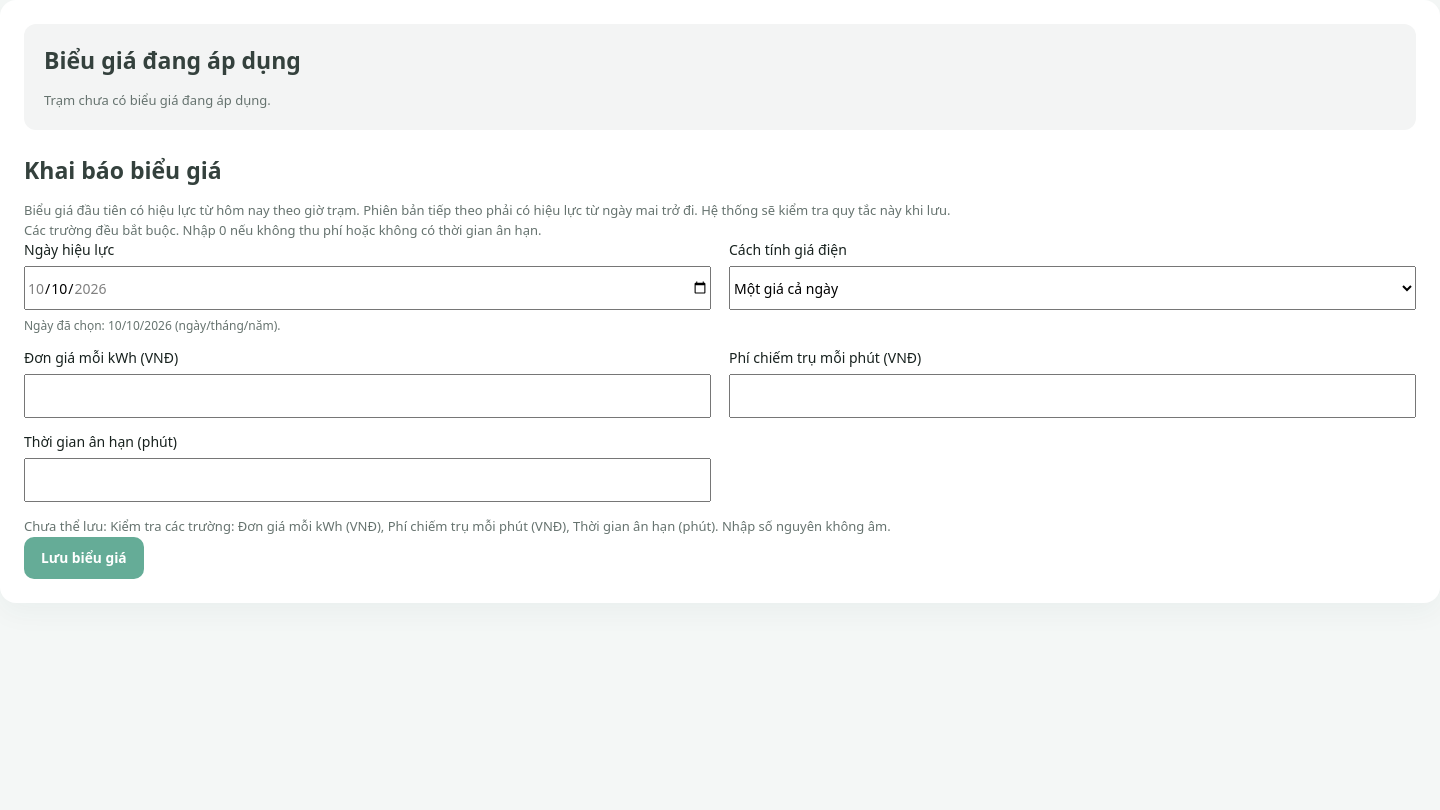
loads empty context, saves first tariff and refreshes current rates on the station section
Expected: the text "Trạm chưa có biểu giá đang áp dụng." is shown, [44,91,271,109]
Expected: the date field labelled "Ngày hiệu lực" holds "2026-10-10", [24,266,711,310]
Type "3500" into the field labelled "Đơn giá mỗi kWh (VNĐ)".
click(368, 396); type("3500")  # box [24,374,711,418]
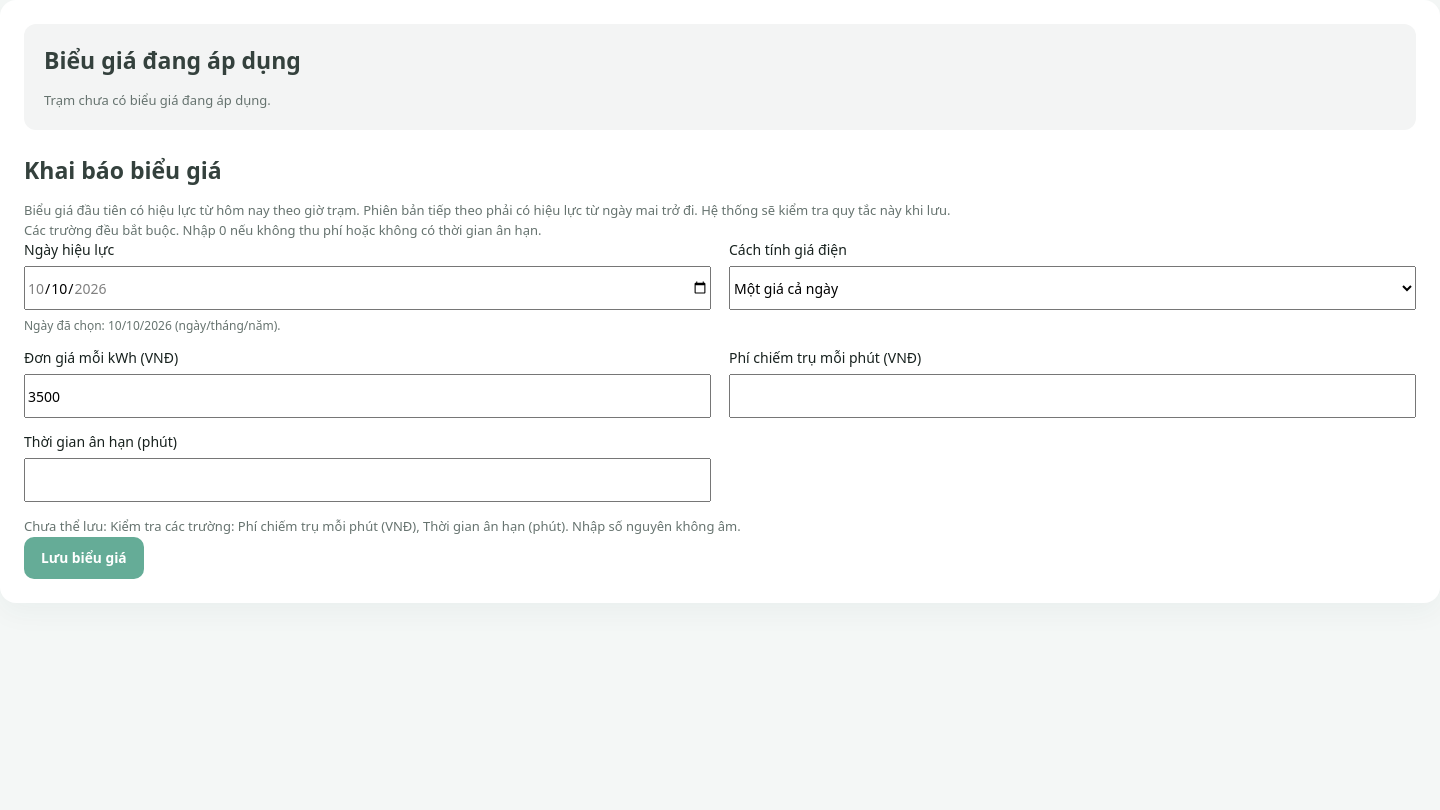
Type "500" into the field labelled "Phí chiếm trụ mỗi phút (VNĐ)".
click(1072, 396); type("500")  # box [729,374,1416,418]
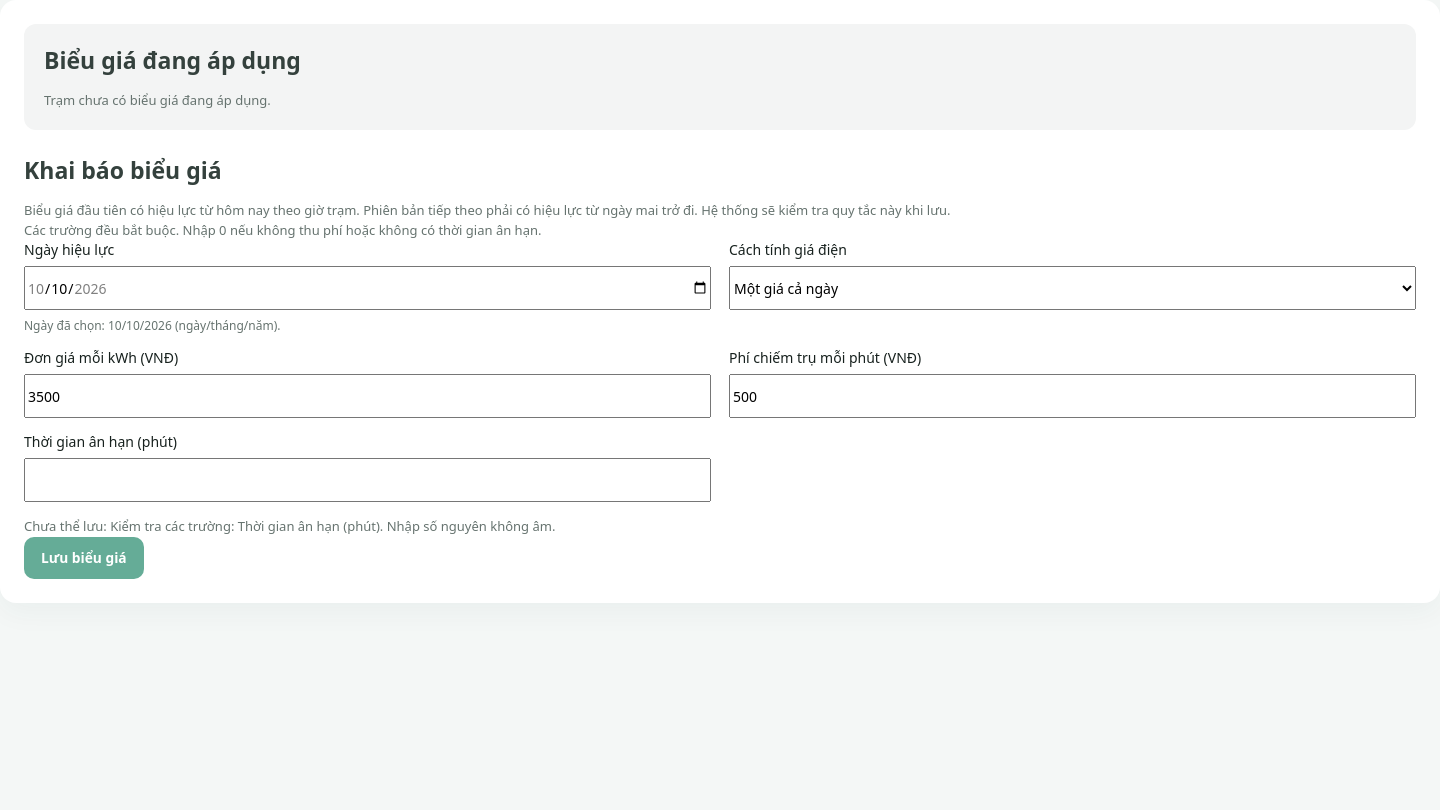
Type "5" into the field labelled "Thời gian ân hạn (phút)".
click(368, 480); type("5")  # box [24,458,711,502]
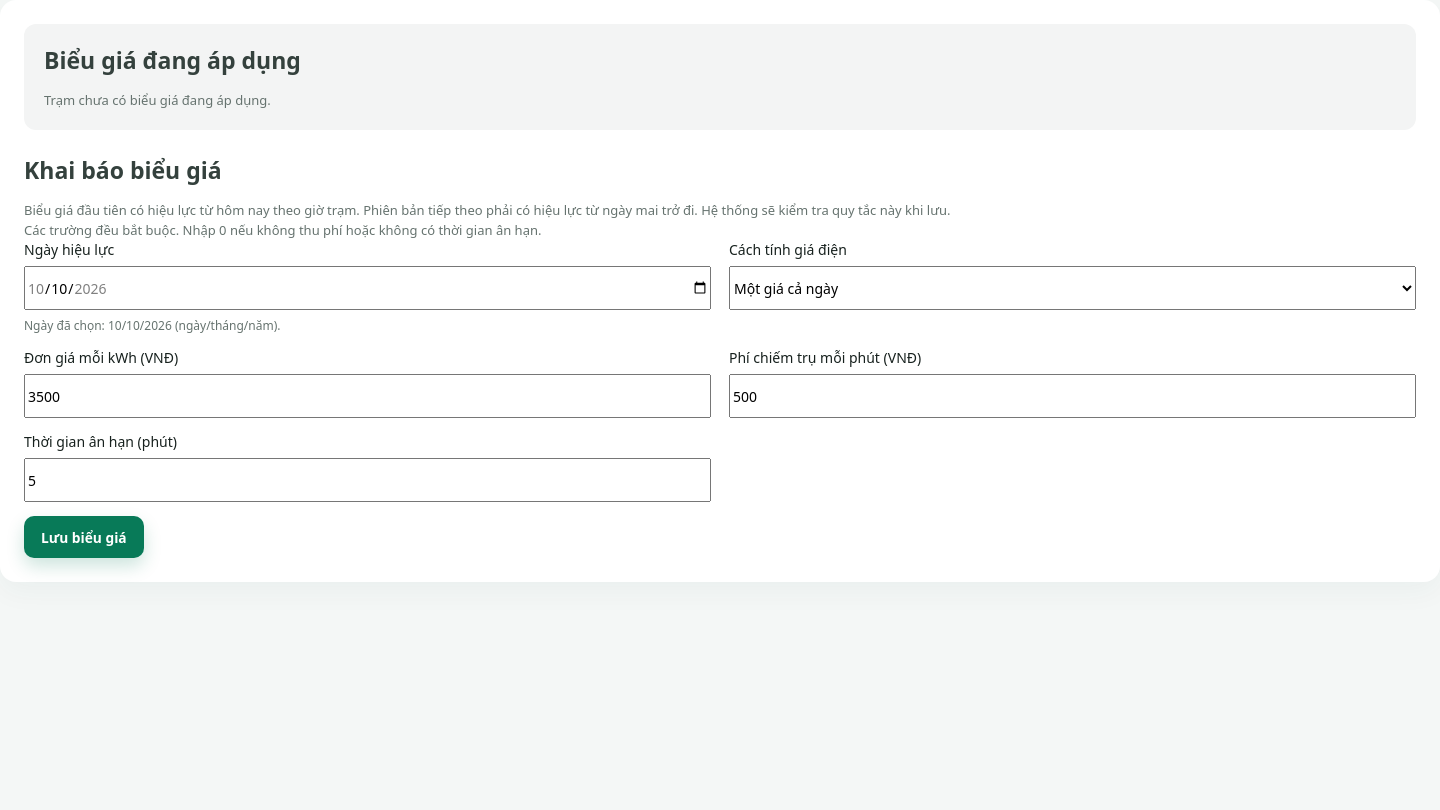
Click the button "Lưu biểu giá".
click(84, 537)  # box [24,516,144,558]
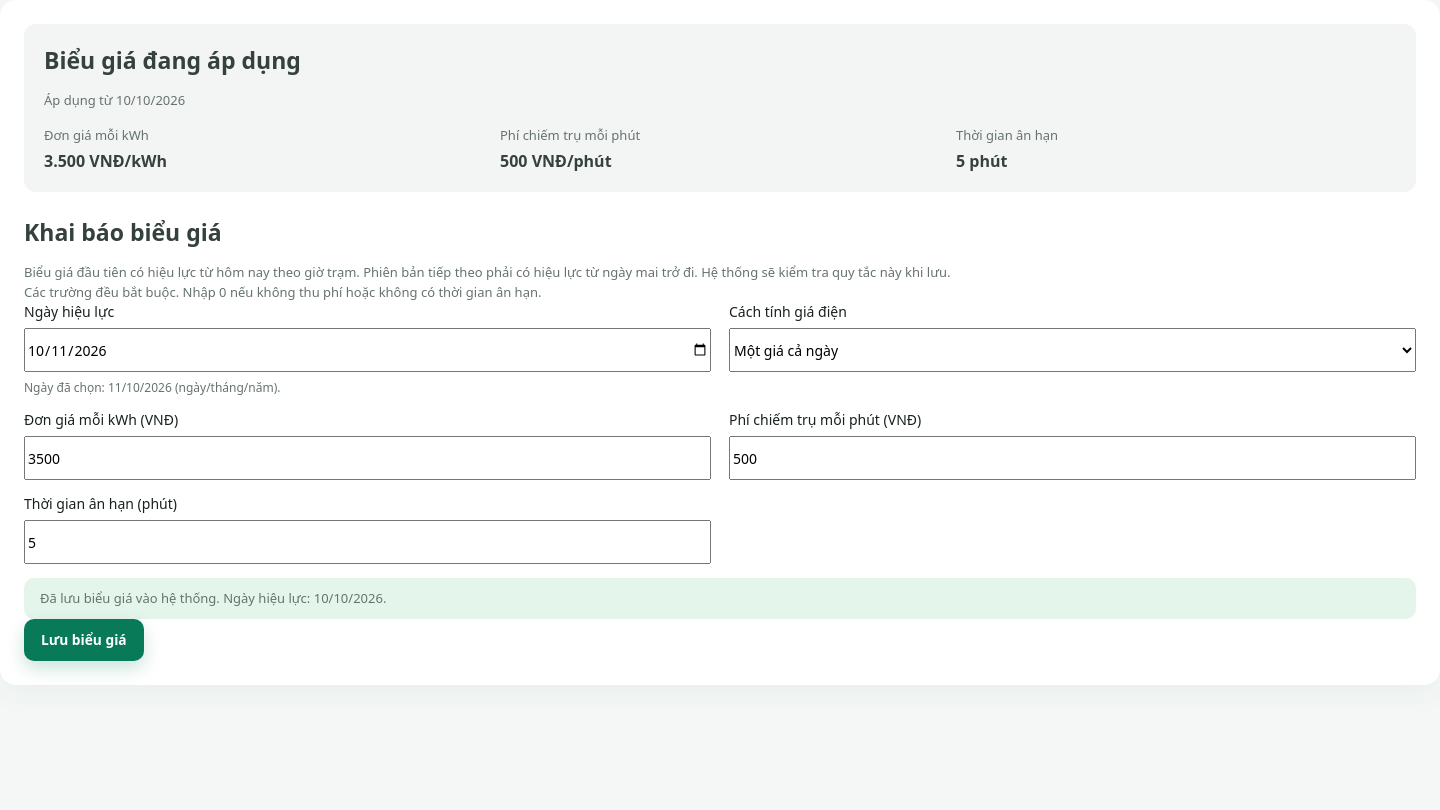
Expected: the text "3.500 VNĐ/kWh" is shown, [44,150,167,172]
Expected: the text "Đã lưu biểu giá vào hệ thống. Ngày hiệu lực: 10/10/2026." is shown, [24,578,1416,618]
Expected: the date field labelled "Ngày hiệu lực" holds "2026-10-11", [24,328,711,372]
